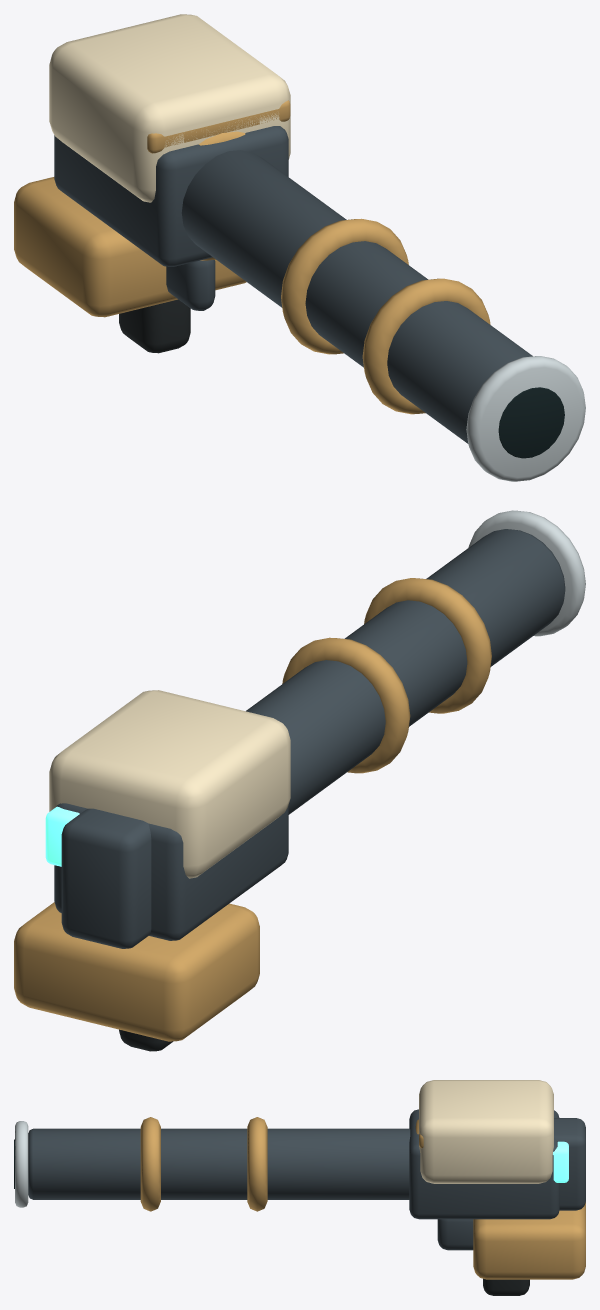
File: shoulder_battery.t4.glb
3 views of the same model, one above another, from view 1: azimuth 30°, elevation 25°; view 2: azimuth 150°, elevation 25°; view 3: azimuth 270°, elevation 25° (orthographic). The views are drawn at different scales.
Parts seen in each view (by area): view 1: weapon_shoulder__forged_bluelead_steel__protected, weapon_shoulder__clay_warm_ivory__protected, weapon_shoulder__worn_warm_brass__protected, weapon_shoulder__honed_steel_edge__protected, weapon_shoulder__eye_socket__protected, weapon_right__charcoal_rubber__protected, weapon_right__forged_bluelead_steel__protected, weapon_right__worn_warm_brass__protected; view 2: weapon_shoulder__forged_bluelead_steel__protected, weapon_shoulder__worn_warm_brass__protected, weapon_shoulder__clay_warm_ivory__protected, weapon_right__forged_bluelead_steel__protected, weapon_shoulder__honed_steel_edge__protected, weapon_right__mint_reticle__protected; view 3: weapon_shoulder__forged_bluelead_steel__protected, weapon_shoulder__clay_warm_ivory__protected, weapon_shoulder__worn_warm_brass__protected, weapon_right__forged_bluelead_steel__protected, weapon_shoulder__honed_steel_edge__protected, weapon_right__charcoal_rubber__protected, weapon_right__mint_reticle__protected.
Part boxes in pixels (x1,y1,x2,y2): weapon_shoulder__forged_bluelead_steel__protected: [54, 126, 532, 443]; weapon_shoulder__clay_warm_ivory__protected: [49, 14, 290, 202]; weapon_shoulder__worn_warm_brass__protected: [14, 100, 490, 414]; weapon_shoulder__honed_steel_edge__protected: [466, 356, 585, 481]; weapon_shoulder__eye_socket__protected: [498, 387, 564, 458]; weapon_right__charcoal_rubber__protected: [119, 299, 190, 353]; weapon_right__forged_bluelead_steel__protected: [166, 260, 215, 310]; weapon_right__worn_warm_brass__protected: [184, 114, 259, 142]; weapon_shoulder__forged_bluelead_steel__protected: [54, 529, 565, 940]; weapon_shoulder__worn_warm_brass__protected: [14, 578, 491, 1041]; weapon_shoulder__clay_warm_ivory__protected: [49, 690, 290, 878]; weapon_right__forged_bluelead_steel__protected: [61, 808, 151, 948]; weapon_shoulder__honed_steel_edge__protected: [468, 510, 585, 636]; weapon_right__mint_reticle__protected: [45, 806, 79, 866]; weapon_shoulder__forged_bluelead_steel__protected: [28, 1109, 559, 1219]; weapon_shoulder__clay_warm_ivory__protected: [419, 1080, 553, 1183]; weapon_shoulder__worn_warm_brass__protected: [140, 1117, 585, 1279]; weapon_right__forged_bluelead_steel__protected: [437, 1118, 585, 1250]; weapon_shoulder__honed_steel_edge__protected: [15, 1121, 28, 1207]; weapon_right__charcoal_rubber__protected: [483, 1278, 529, 1295]; weapon_right__mint_reticle__protected: [553, 1141, 568, 1182].
Size of the model in its own units: 0.371 by 0.5989 by 1.61.
